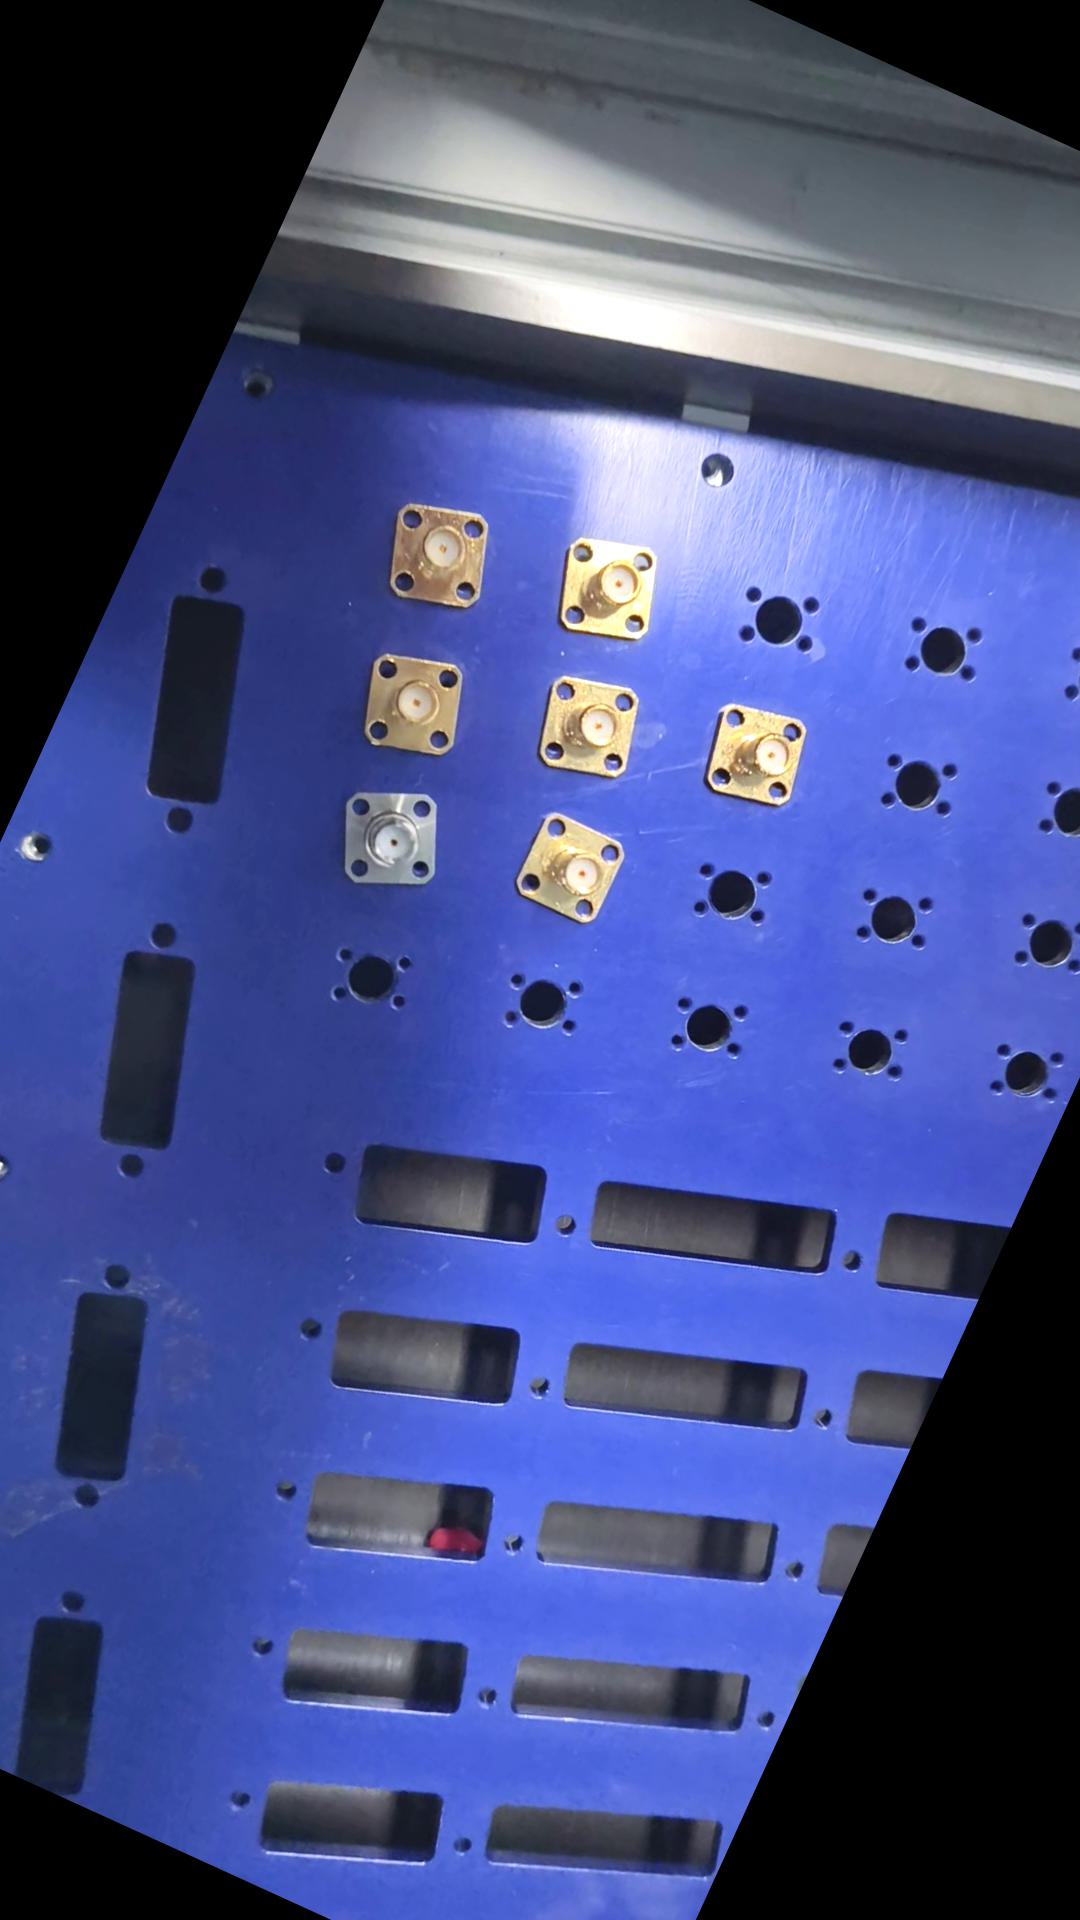SMA: (361, 483, 517, 632), (319, 767, 472, 913), (541, 516, 690, 661), (345, 636, 491, 777), (500, 800, 644, 942), (520, 661, 665, 798), (690, 688, 825, 828)
